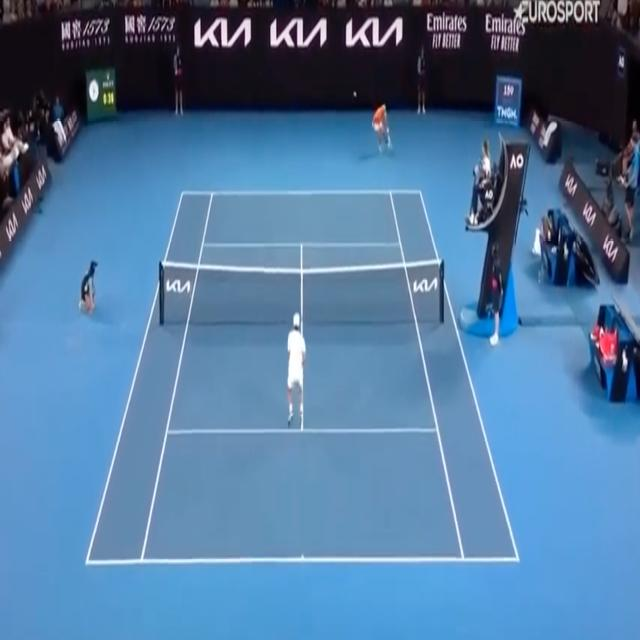ball: (353, 91, 357, 98)
